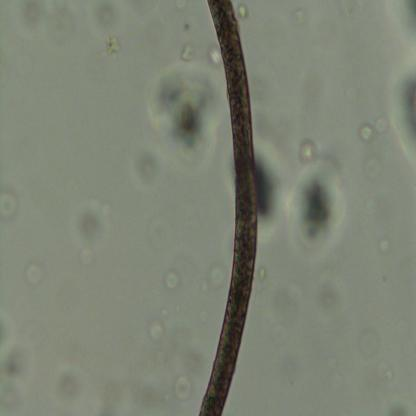Background material: (149, 61, 221, 176), (289, 133, 348, 258), (0, 310, 36, 412), (13, 2, 93, 46), (69, 195, 116, 268), (302, 244, 346, 314), (252, 144, 285, 235), (392, 63, 416, 160), (52, 366, 84, 404), (352, 316, 382, 355), (170, 370, 194, 403), (358, 117, 390, 141), (22, 257, 46, 289), (0, 187, 19, 221), (146, 315, 166, 343), (206, 262, 226, 289), (102, 32, 122, 58), (374, 233, 392, 257), (165, 269, 180, 293), (179, 40, 195, 62), (208, 44, 222, 66), (235, 2, 250, 20)
Microfibre: (197, 0, 261, 416)
